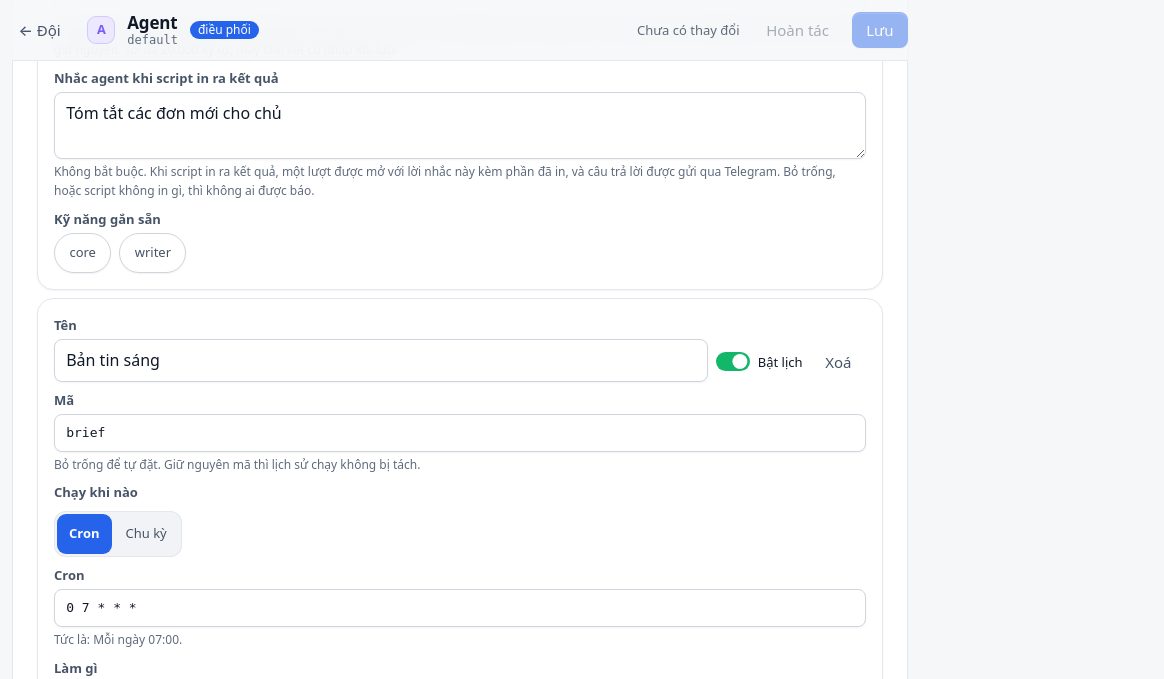
it: a schedule that runs a script, in the agent editor › is not held as a row with nothing to do
This screenshot has width=1164, height=679.
(page scrolled)
Expected: the button "Lưu" is disabled, [852,12,908,48]
In the field labelled "Tên": coordinates (381, 360) [54,339,708,382], type " sớm"
(page scrolled)
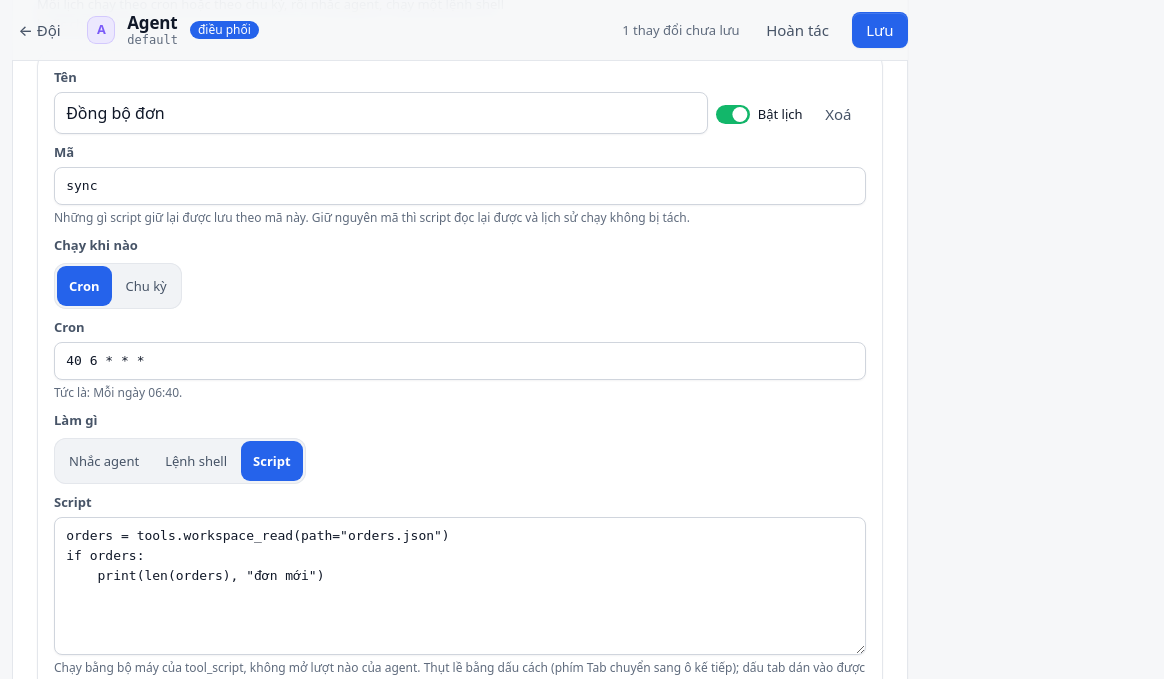
Expected: the button "Lưu" is enabled, [852,12,908,48]
# Its timing is still the form's to check.
Replace the text in the field labelled "Cron" with "lúc 7 giờ": coordinates (460, 361) [54,342,866,380]
(page scrolled)
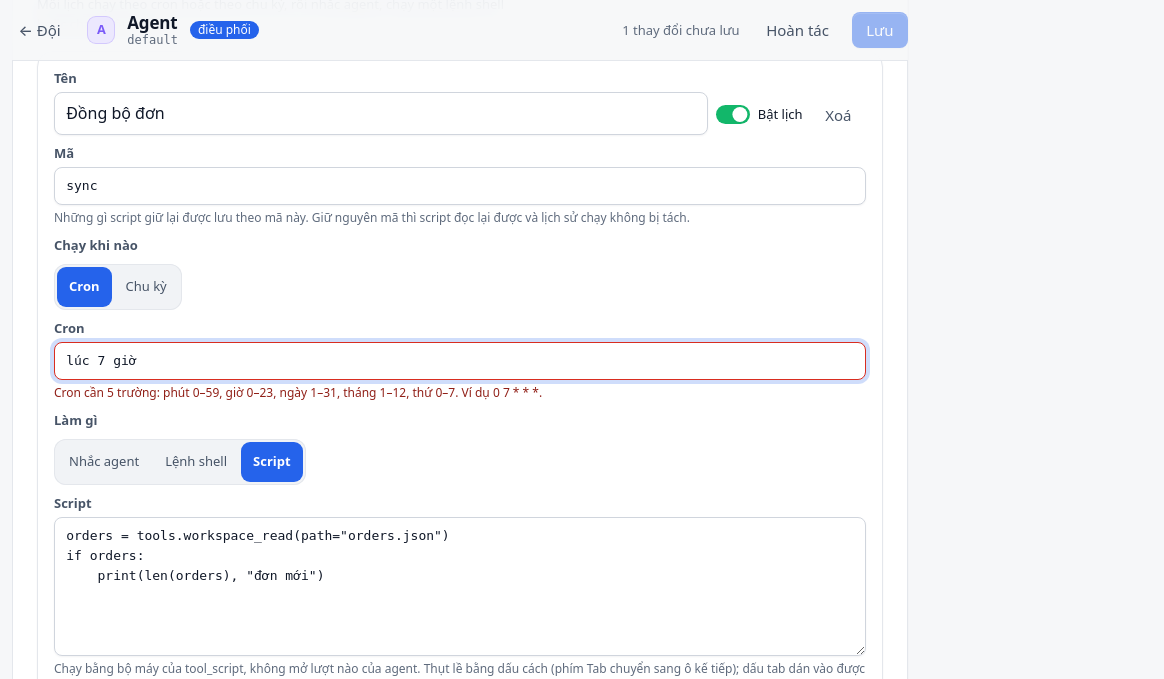
Expected: the text "Cron cần 5 trường: phút 0–59, giờ 0–23, ngày 1–31, tháng 1–12, thứ 0–7. Ví dụ 0 7 * * *." is shown, [54,384,542,401]
Expected: the button "Lưu" is disabled, [852,12,908,48]
